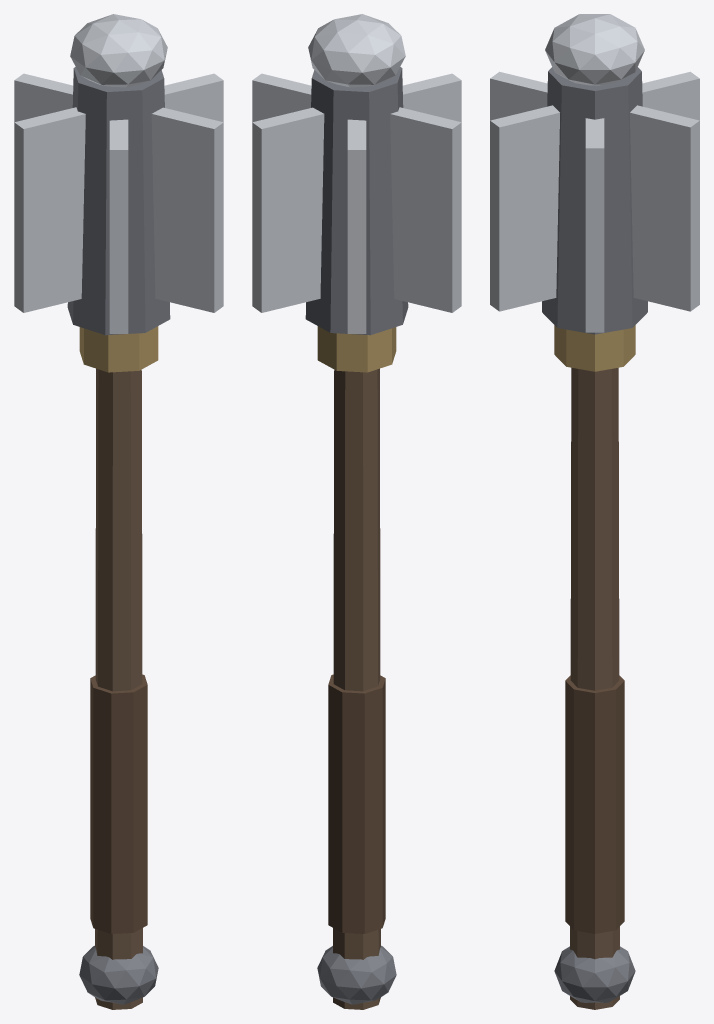
Rendered from flanged_mace.glb.
The picture shows the model from 3 angles, left to right: view 1: azimuth 30°, elevation 25°; view 2: azimuth 150°, elevation 25°; view 3: azimuth 270°, elevation 25°; orthographic projection.
Visible parts, largest first — view 1: flanged_mace; view 2: flanged_mace; view 3: flanged_mace.
Boxes of the visible parts, x1,y1,x2,y2 form: flanged_mace: (14, 14, 223, 1009); flanged_mace: (252, 14, 461, 1009); flanged_mace: (490, 14, 699, 1009).
Bounding box in the file's own units: 0.148 × 0.6932 × 0.1342.
